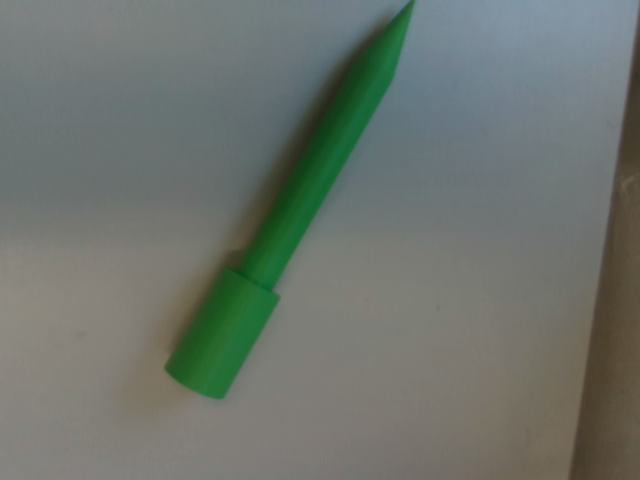Probe: (159, 1, 424, 404)
